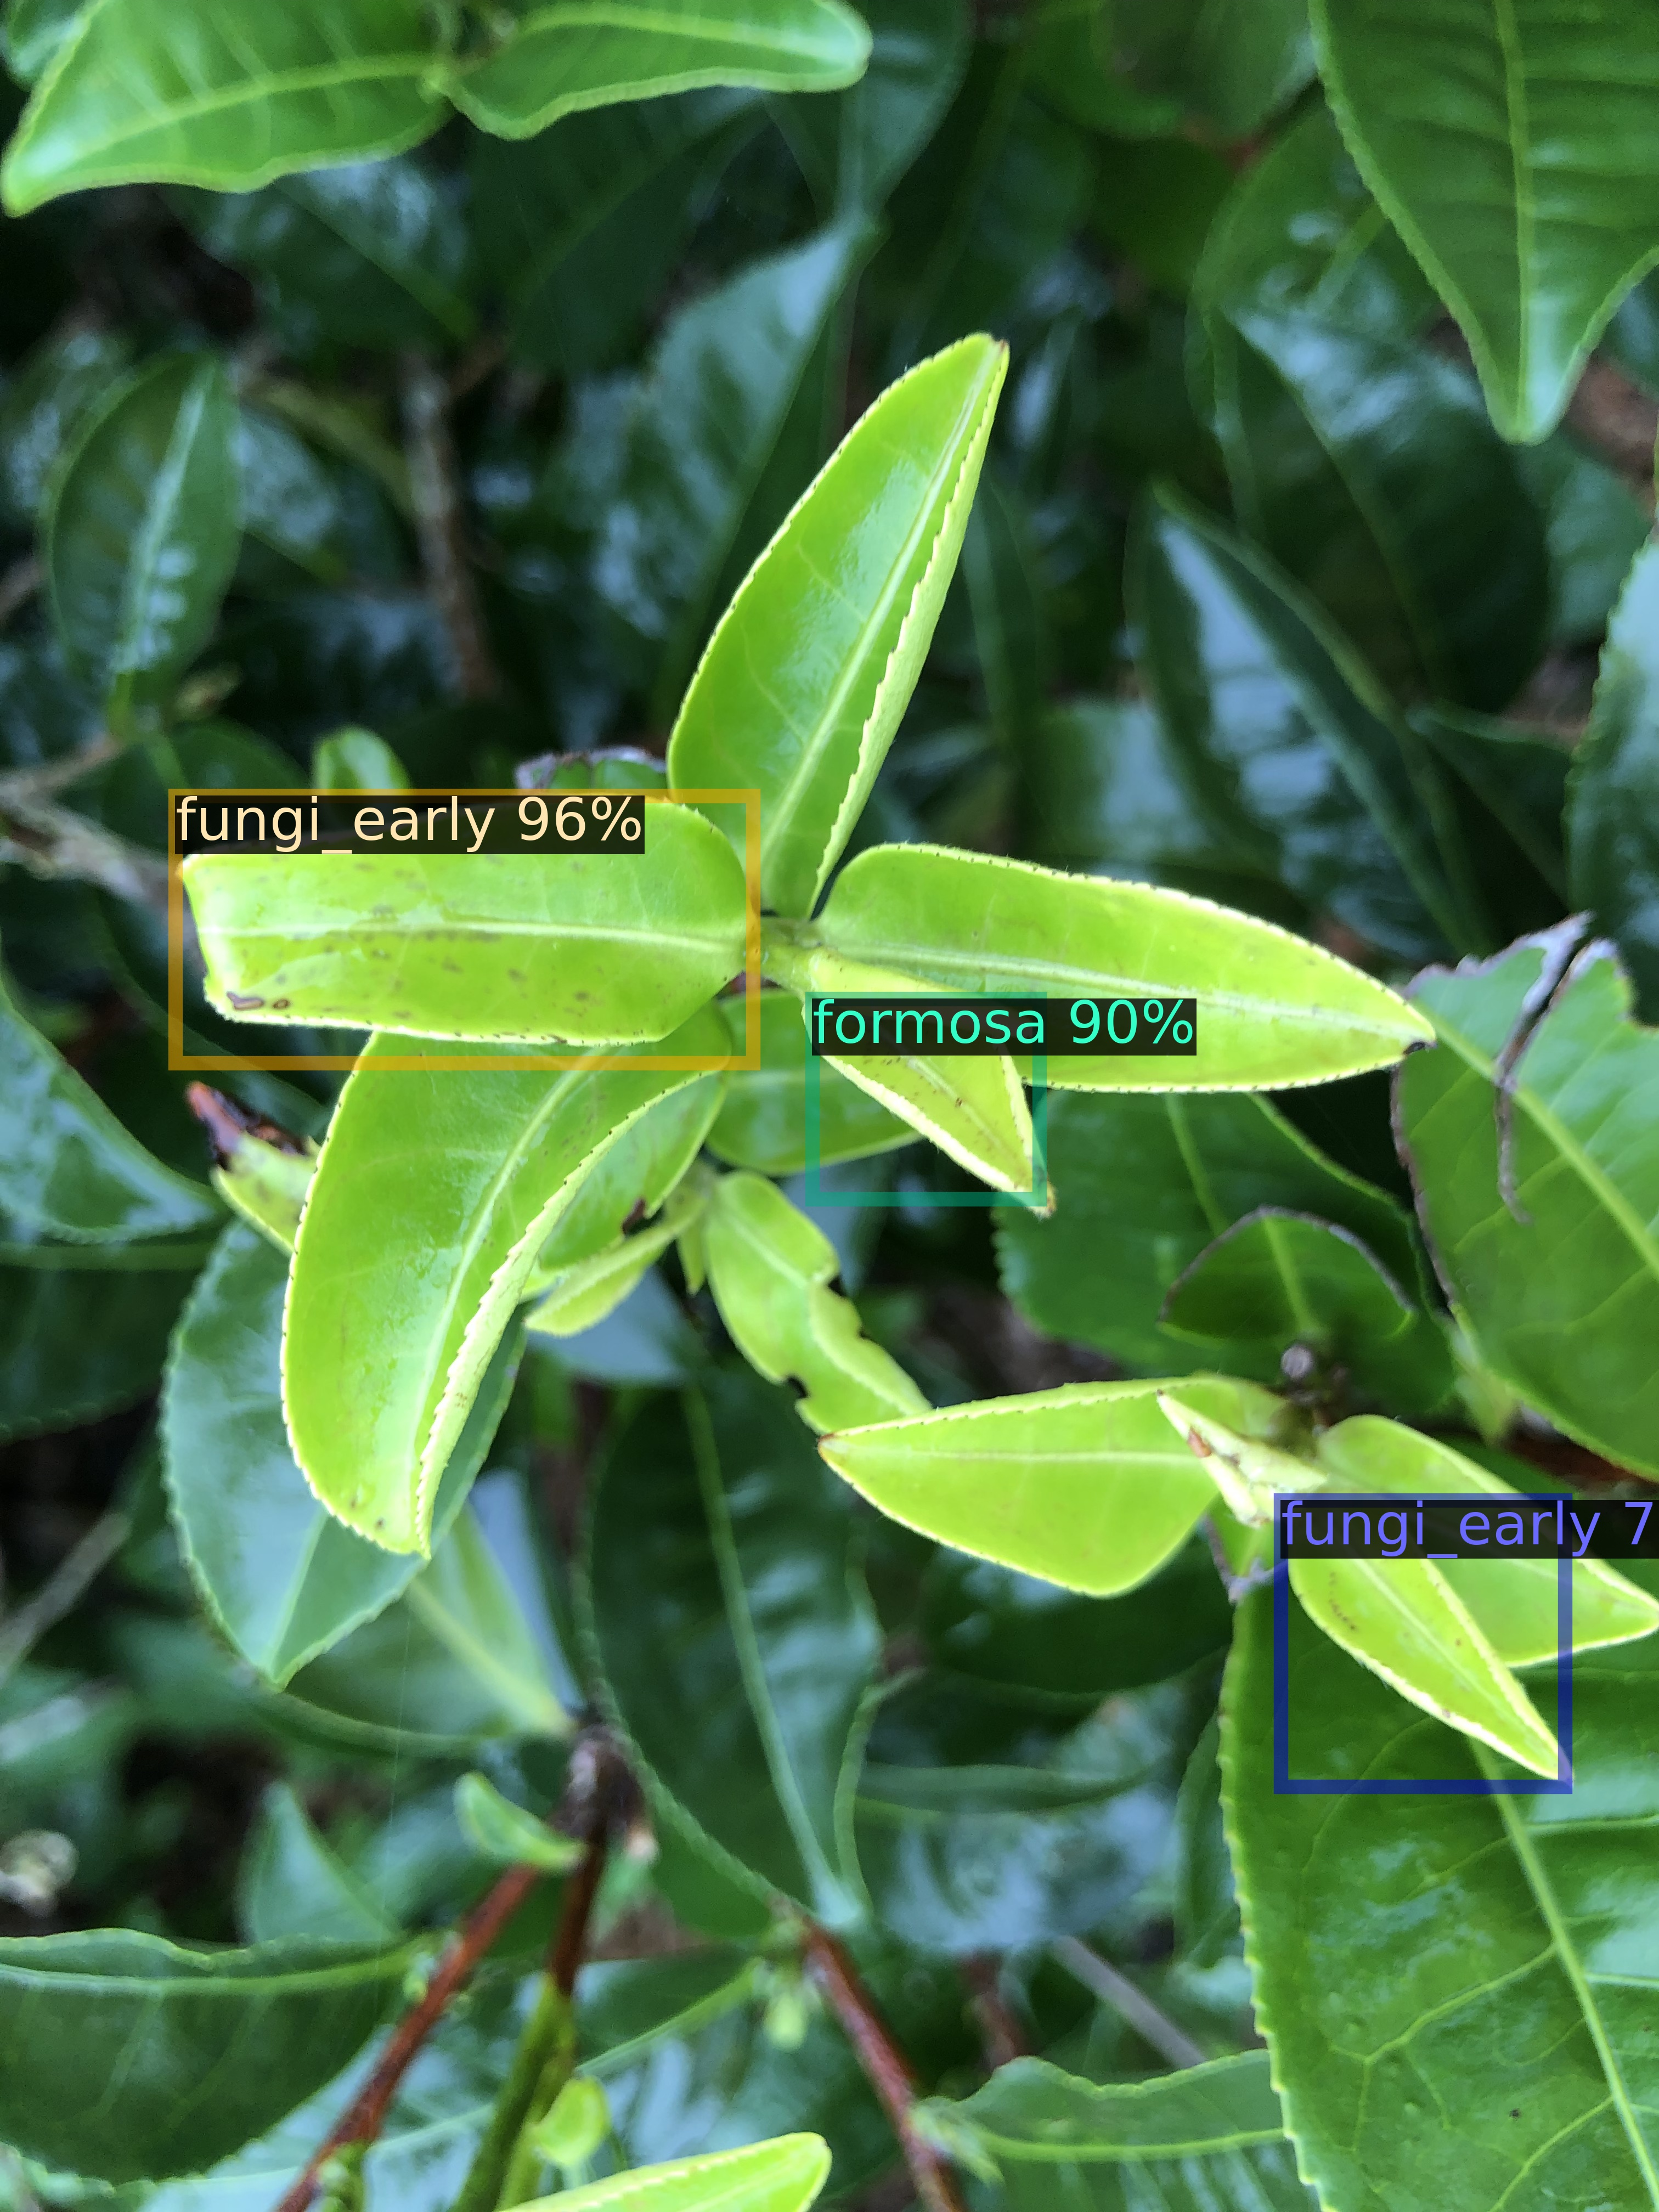formosa: (812, 998, 1039, 1200)
fungi_early: (176, 796, 753, 1062), (1281, 1500, 1565, 1787)
